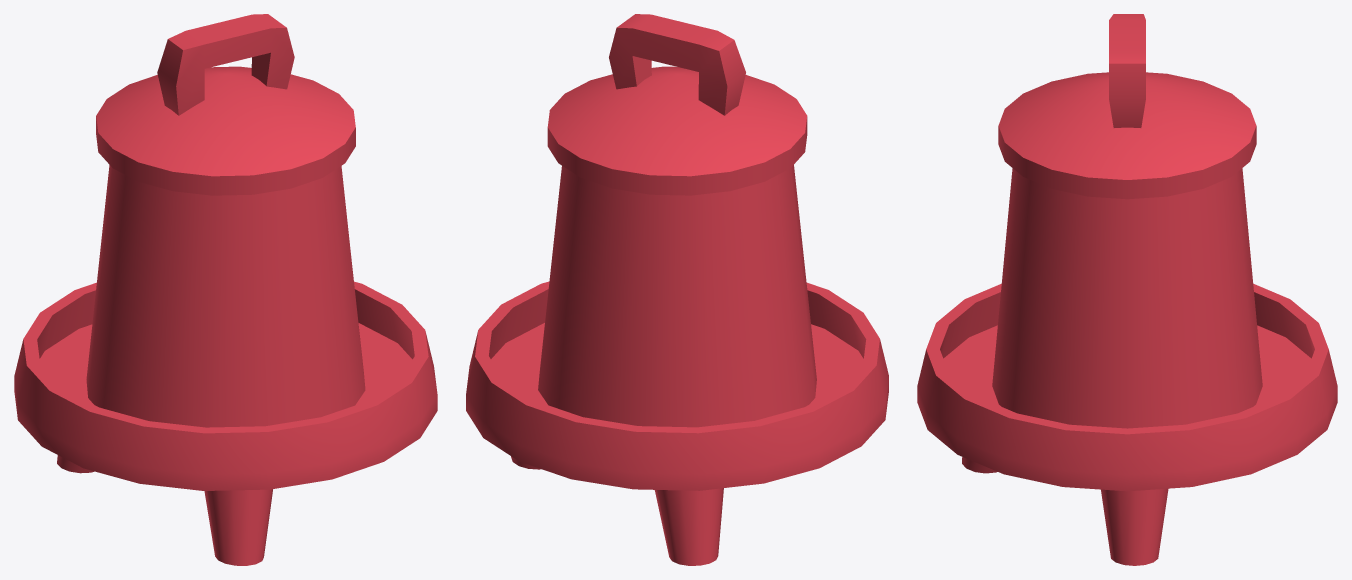
File: SM_feed.fbx
3 views of the same model, side by side, from view 1: azimuth 30°, elevation 25°; view 2: azimuth 150°, elevation 25°; view 3: azimuth 270°, elevation 25° (orthographic).
Visible parts, largest first — view 1: pasted__pCylinder3.001; view 2: pasted__pCylinder3.001; view 3: pasted__pCylinder3.001.
Boxes of the visible parts, x1,y1,x2,y2 form: pasted__pCylinder3.001: (14,14,437,565); pasted__pCylinder3.001: (466,14,888,565); pasted__pCylinder3.001: (917,14,1337,565).
Bounding box in the file's own units: 40.74 × 48.76 × 40.74.
